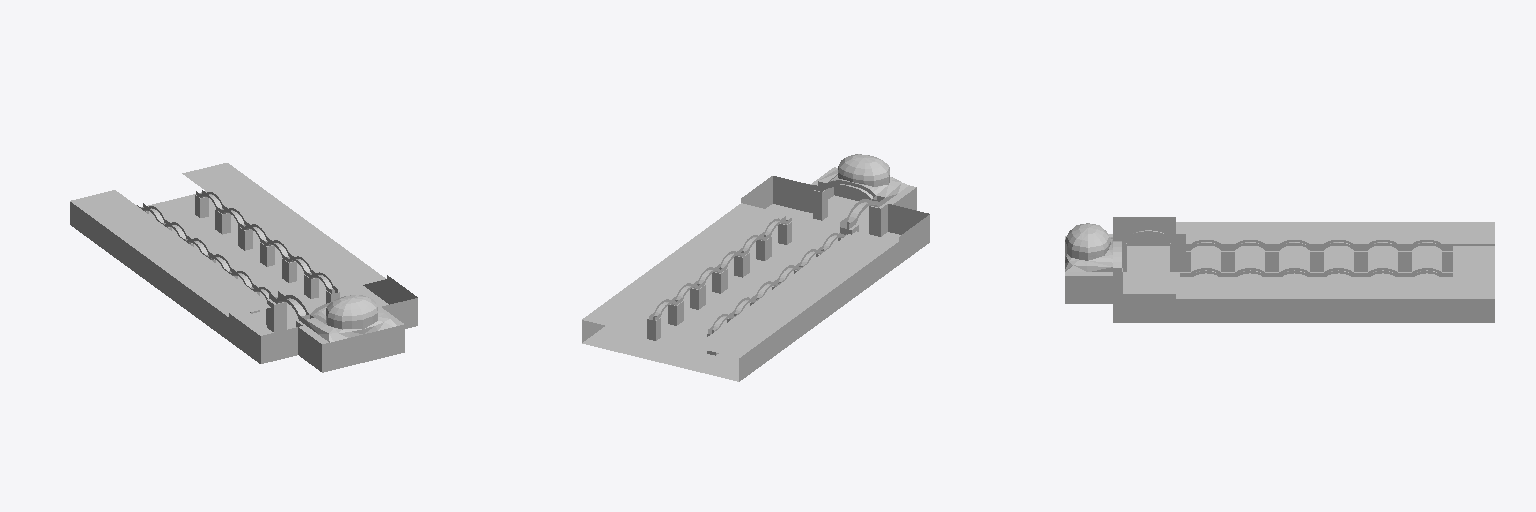
Rendered from miIgle.obj.
The picture shows the model from 3 angles: view 1: azimuth 30°, elevation 25°; view 2: azimuth 150°, elevation 25°; view 3: azimuth 270°, elevation 25°; orthographic projection.
Parts seen in each view (by area): view 1: Cube.002_Cube.005; view 2: Cube.002_Cube.005; view 3: Cube.002_Cube.005.
Boxes of the visible parts, x1=… form: Cube.002_Cube.005: x1=70, y1=163, x2=417, y2=372; Cube.002_Cube.005: x1=582, y1=154, x2=929, y2=381; Cube.002_Cube.005: x1=1065, y1=217, x2=1494, y2=322.
Size of the model in its own units: 59.42 by 20.21 by 140.